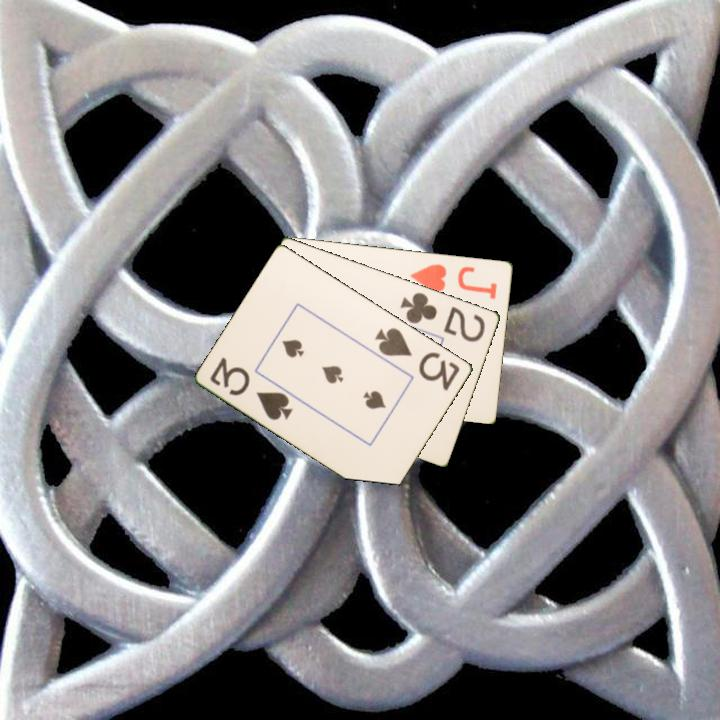2c: (397, 288, 488, 345)
3s: (371, 324, 463, 394), (207, 353, 297, 423)
Jh: (407, 260, 500, 301)
